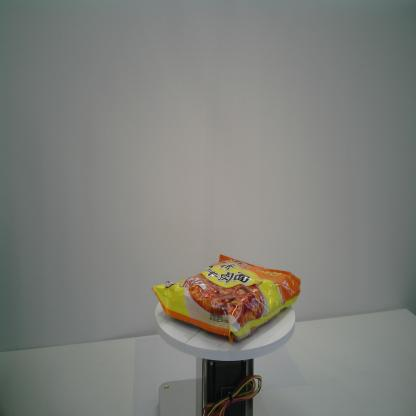Instant Noodles: (151, 253, 301, 345)
